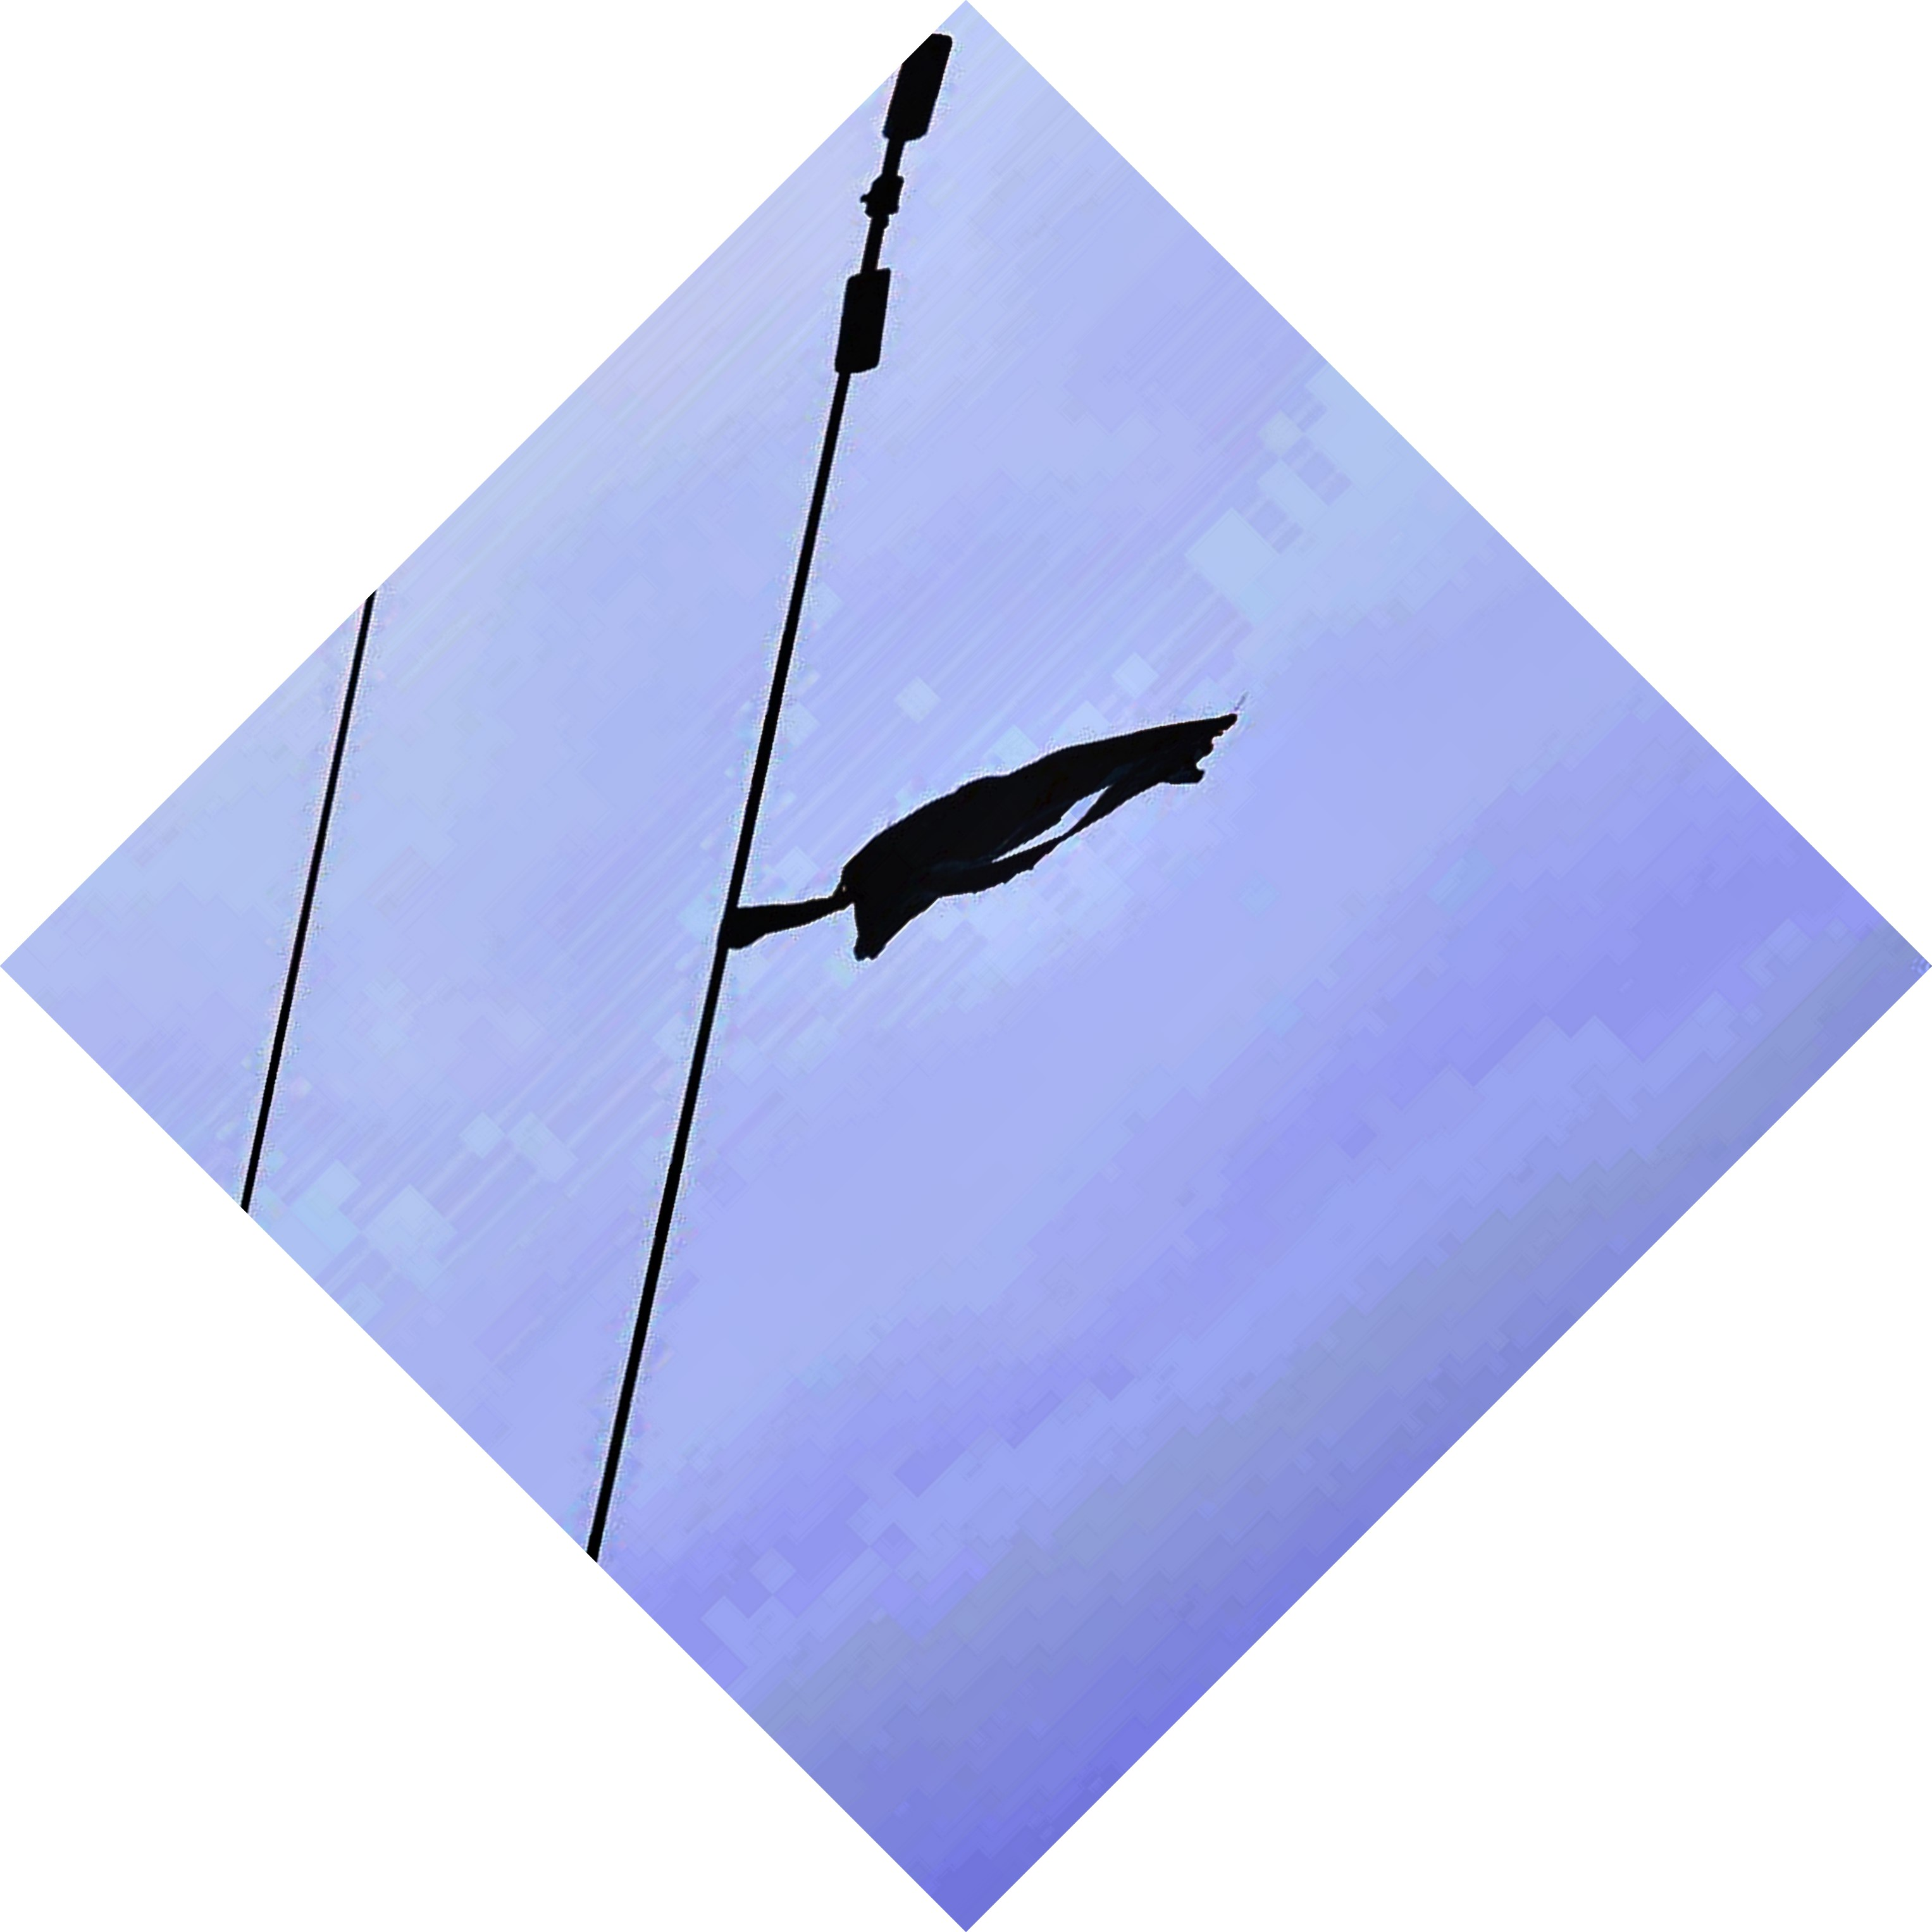wire foreign body: (674, 667, 1261, 991)
